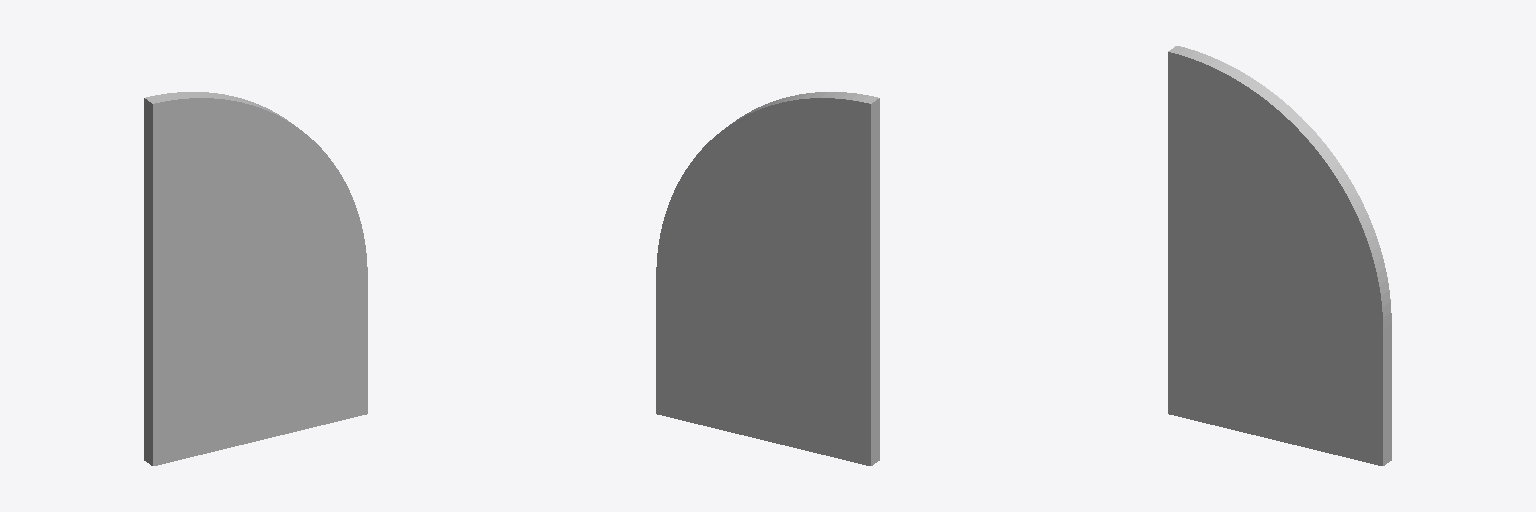
Rendered from door_left.obj.
3 views of the same model, side by side, from view 1: azimuth 30°, elevation 25°; view 2: azimuth 150°, elevation 25°; view 3: azimuth 330°, elevation 25° (orthographic).
Parts seen in each view (by area): view 1: MeshBody5; view 2: MeshBody5; view 3: MeshBody5.
Part boxes in pixels (left/top/right/bottom): MeshBody5: left=144, top=92, right=367, bottom=465; MeshBody5: left=656, top=92, right=879, bottom=465; MeshBody5: left=1168, top=46, right=1391, bottom=465.
Bounding box in the file's own units: 4.34 × 7 × 0.3.